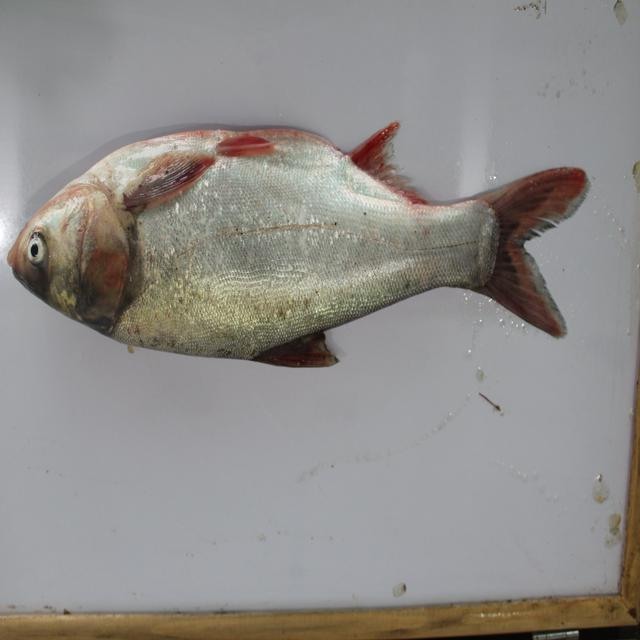SilverCarp: (13, 104, 583, 364)
